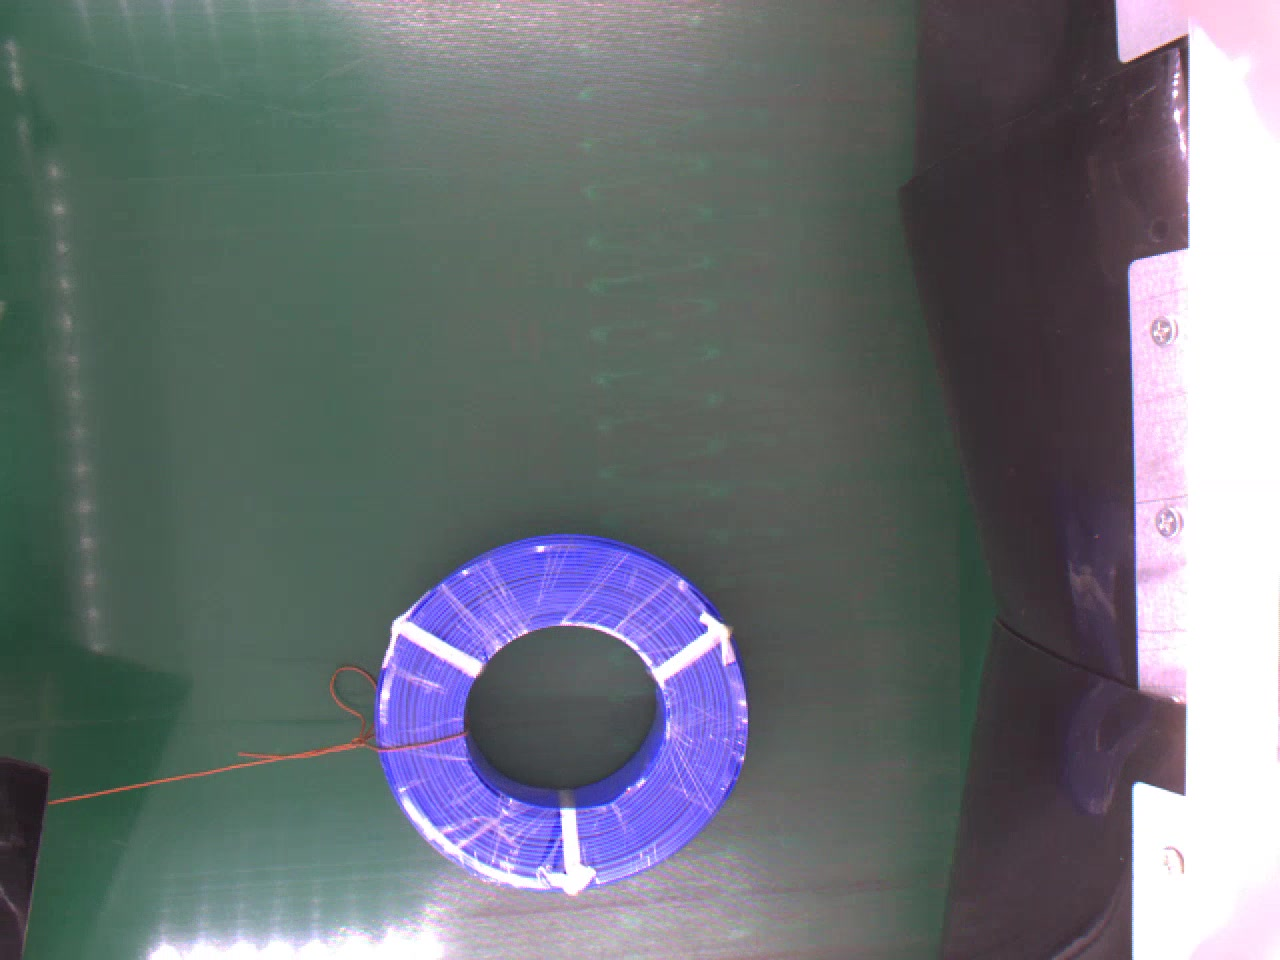blue: (368, 534, 754, 899)
